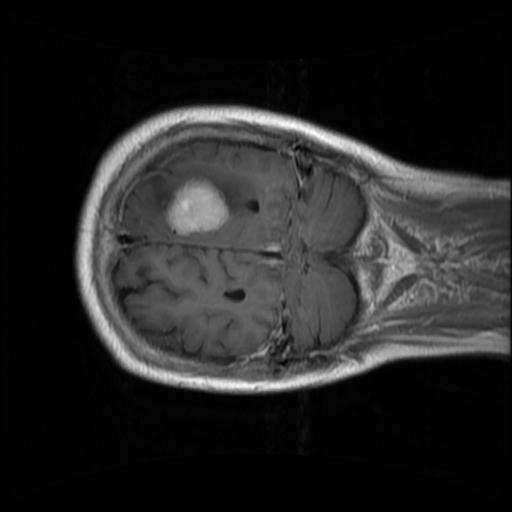meningioma: (165, 178, 228, 238)
